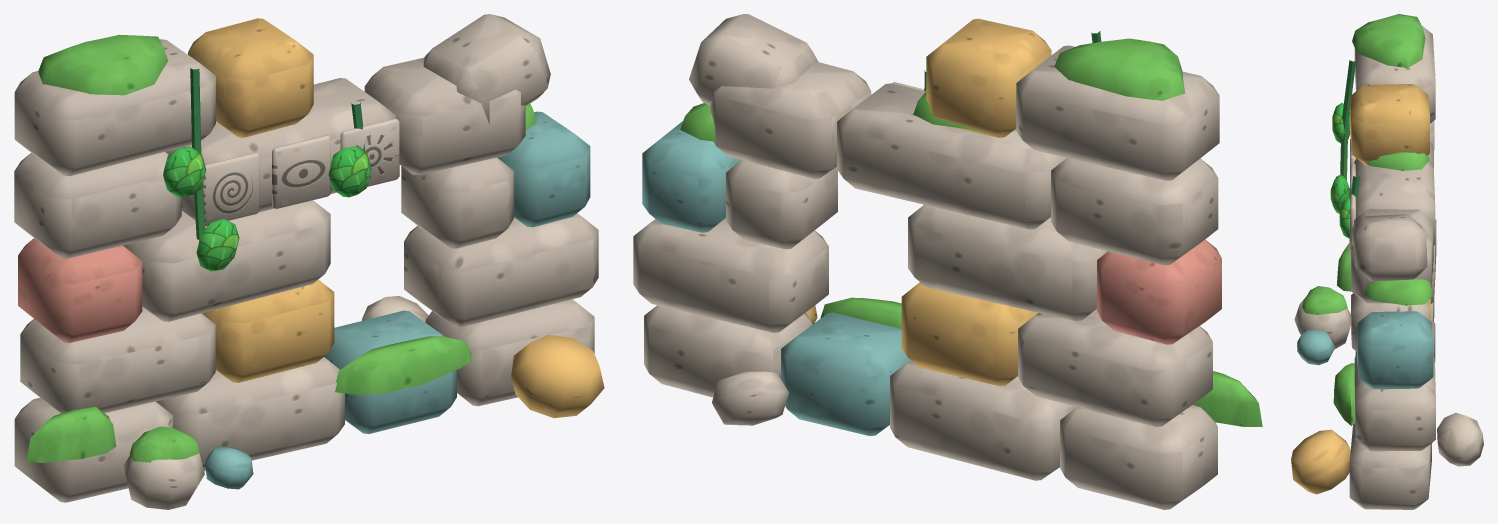
File: ruin_wall.glb
3 views of the same model, side by side, from view 1: azimuth 30°, elevation 25°; view 2: azimuth 150°, elevation 25°; view 3: azimuth 270°, elevation 25° (orthographic). The views are drawn at different scales.
Visible parts, largest first — view 1: ruin_wall; view 2: ruin_wall; view 3: ruin_wall.
Boxes of the visible parts, box(x1,y1,x2,y2) form: ruin_wall: box(14, 14, 604, 509); ruin_wall: box(633, 14, 1262, 509); ruin_wall: box(1291, 14, 1483, 509).
Bounding box in the file's own units: 6.83 × 4.85 × 2.65.
Materials: 3 (3 with a texture image).
